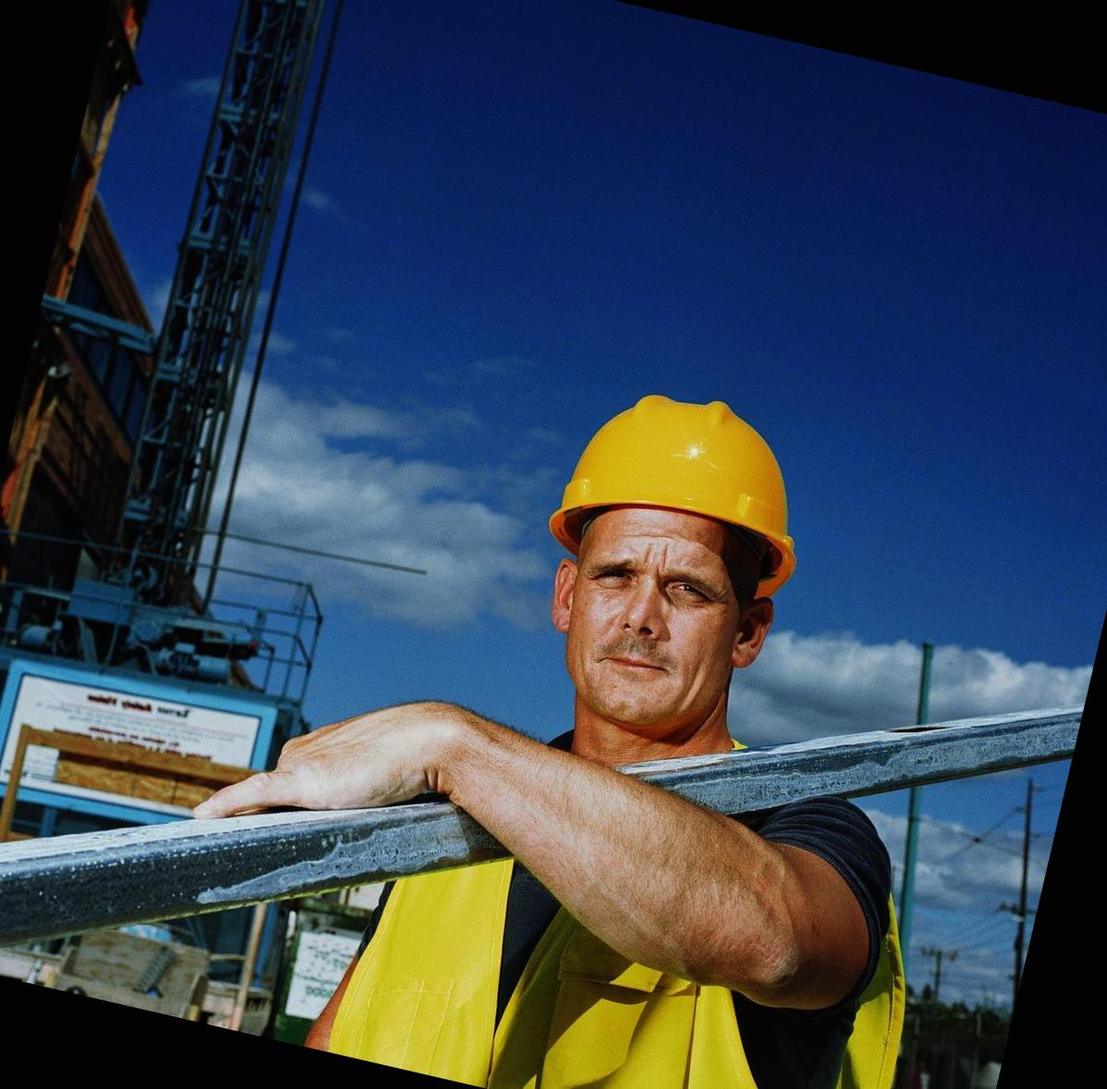helmet: (536, 353, 841, 569)
person: (244, 318, 1053, 1089)
